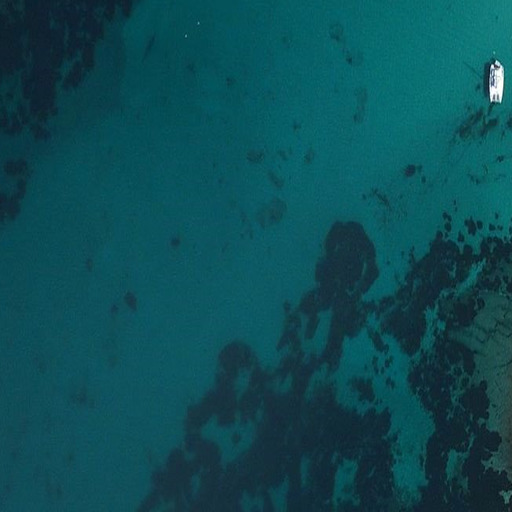ship: (485, 57, 508, 108)
